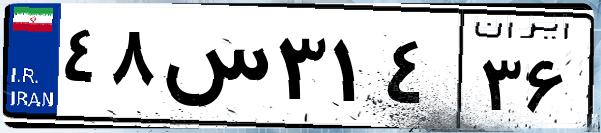1: (330, 28, 385, 110)
3: (270, 28, 330, 110), (475, 38, 525, 113)
4: (385, 28, 445, 110), (57, 26, 110, 100)
6: (525, 38, 570, 115)
8: (110, 28, 158, 98)
س: (158, 20, 270, 120)
